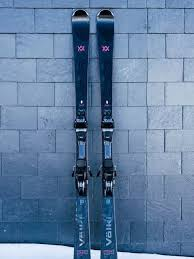skis: (68, 8, 119, 259)
